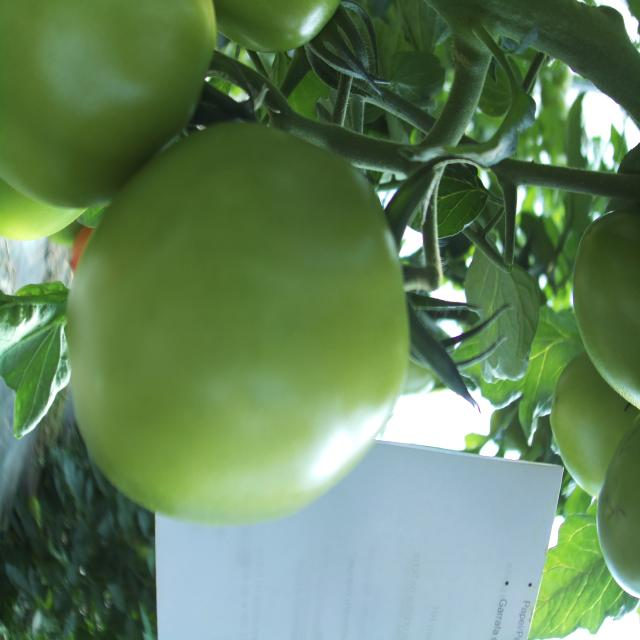yesil: (0, 0, 415, 520)
